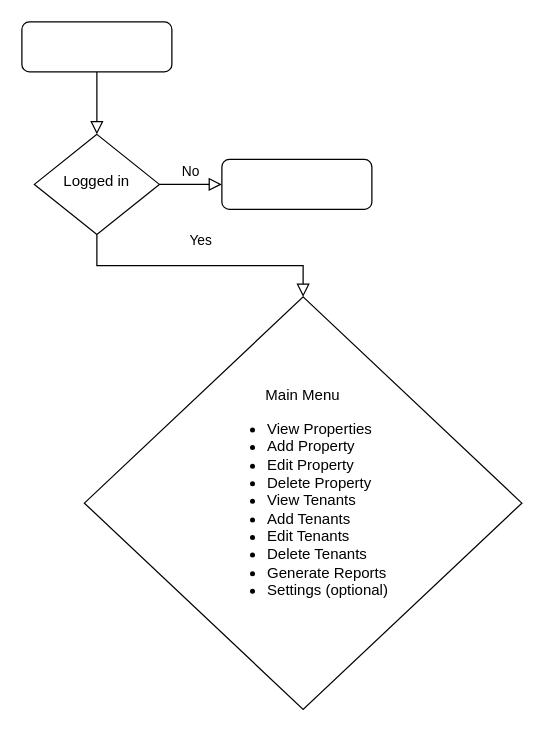
Image size: 544x731. Some labels were removed from this diagram. Each missing label, with the box of its shape:
Admin: (21, 21, 172, 72)
Back to login / password reset: (221, 158, 372, 209)
